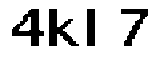4: (9, 7, 44, 49)
7: (114, 5, 152, 52)
I: (81, 6, 101, 51)
k: (46, 7, 79, 52)
